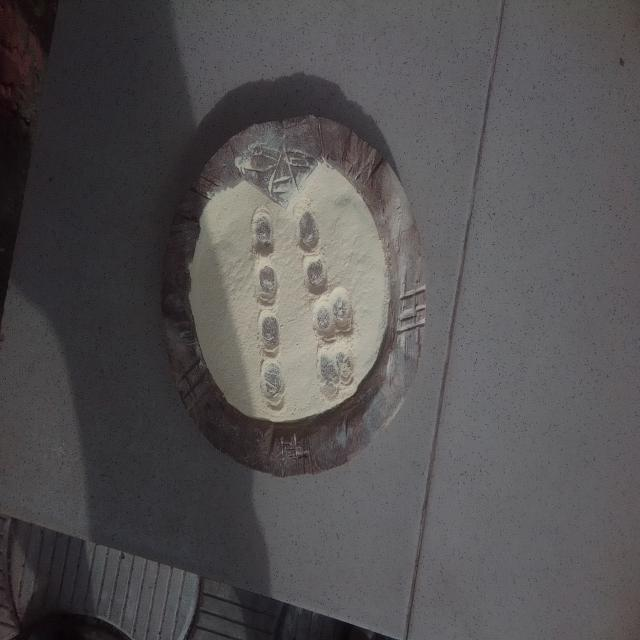double: (307, 288, 356, 341), (317, 342, 356, 395)
single: (292, 204, 323, 258), (250, 204, 278, 260), (260, 360, 288, 414), (256, 255, 282, 313), (300, 253, 330, 299), (259, 311, 283, 359)
